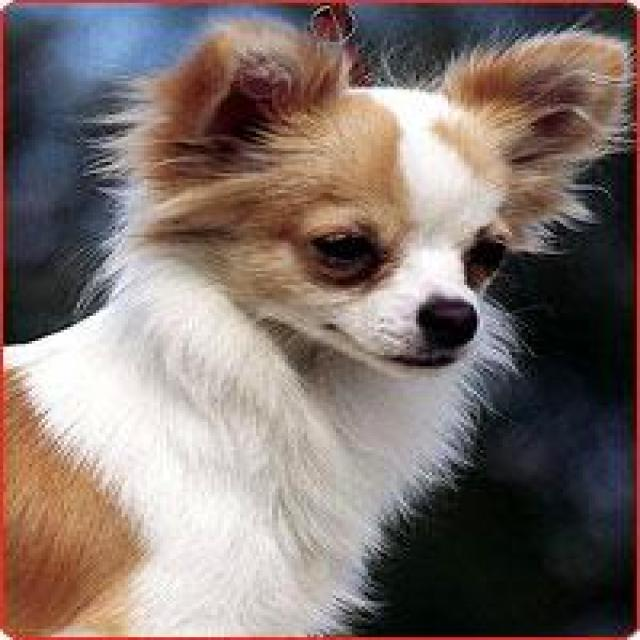chihuahua: (4, 20, 634, 634)
